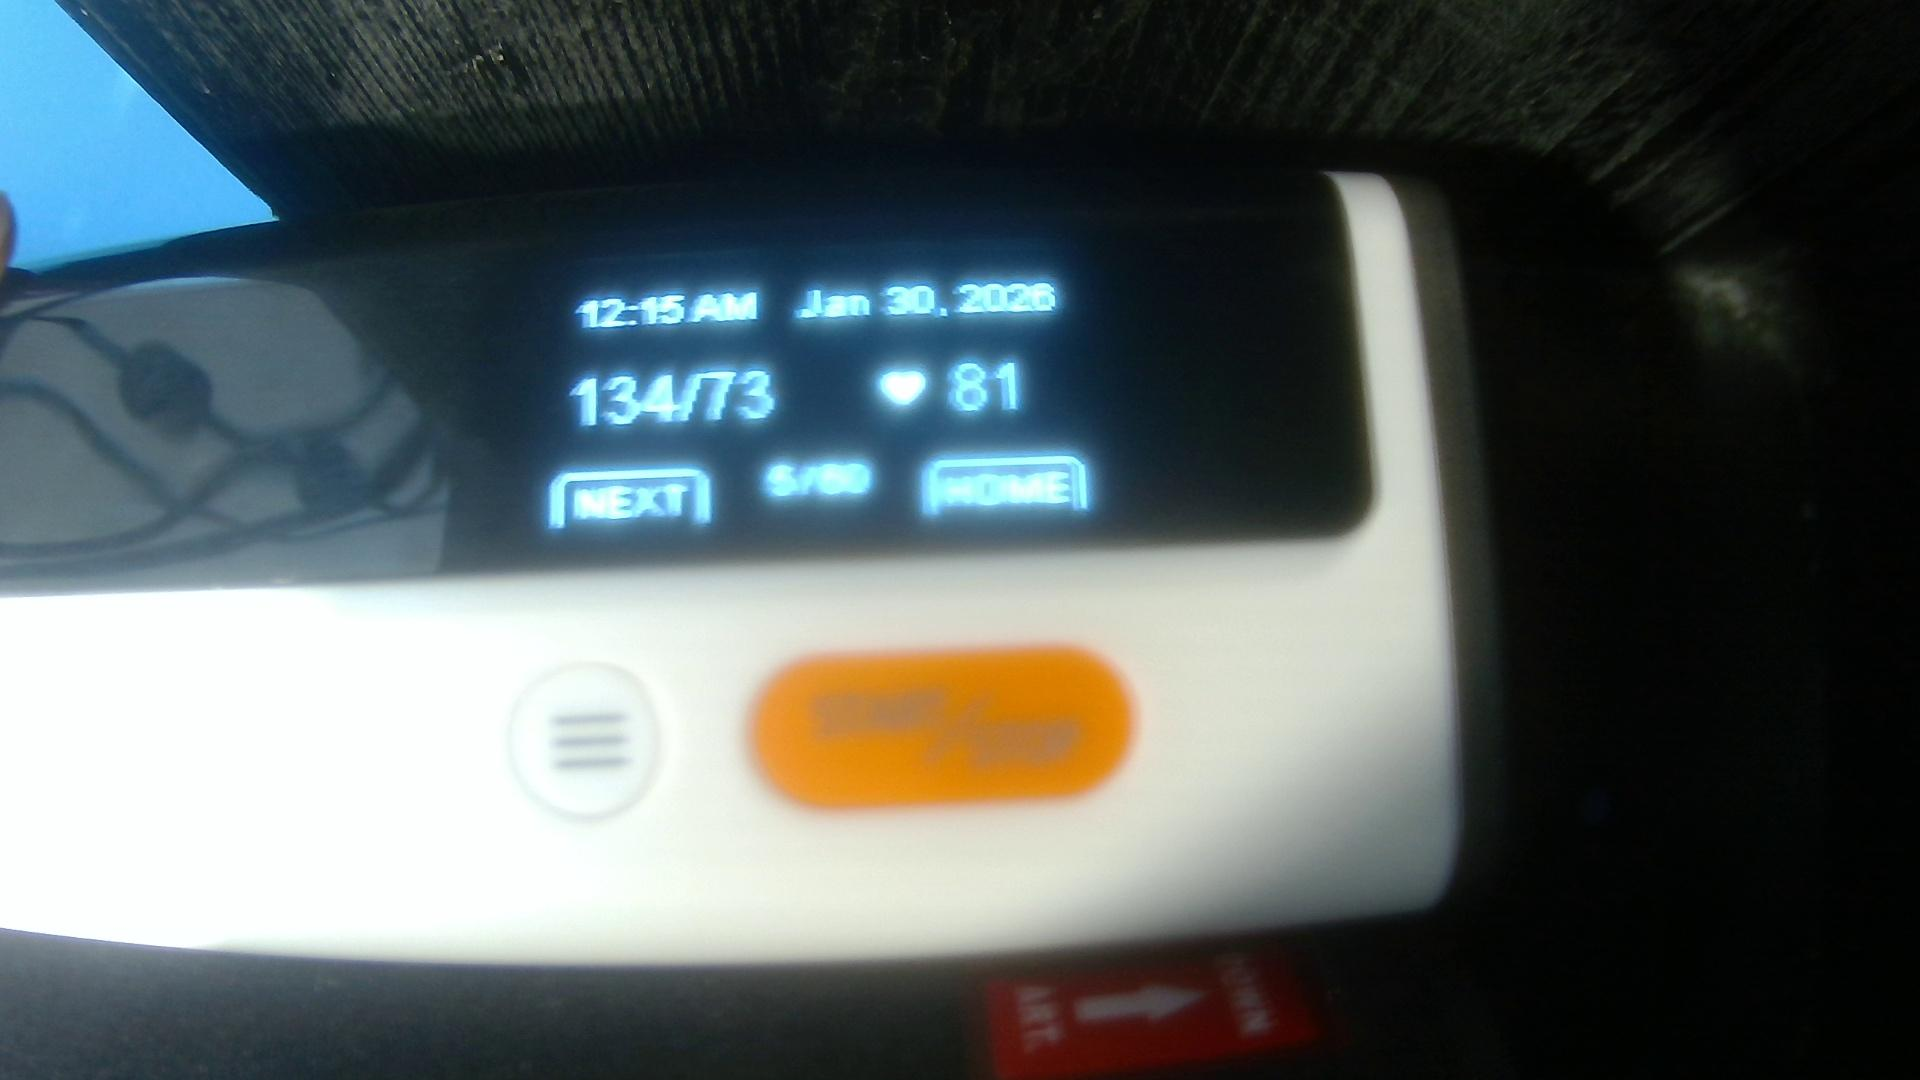DISPLAY: (6, 176, 1349, 587)
